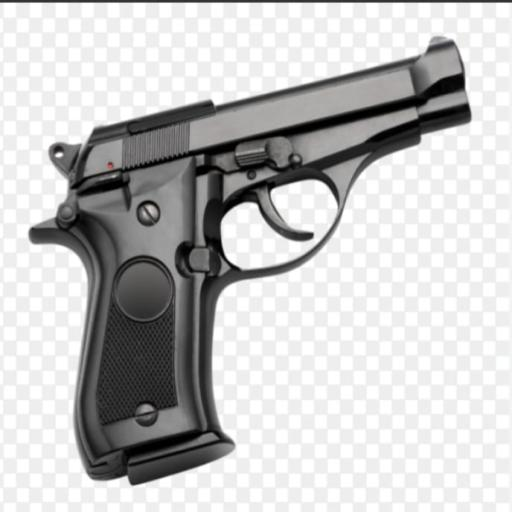Gun: (30, 37, 470, 482)
